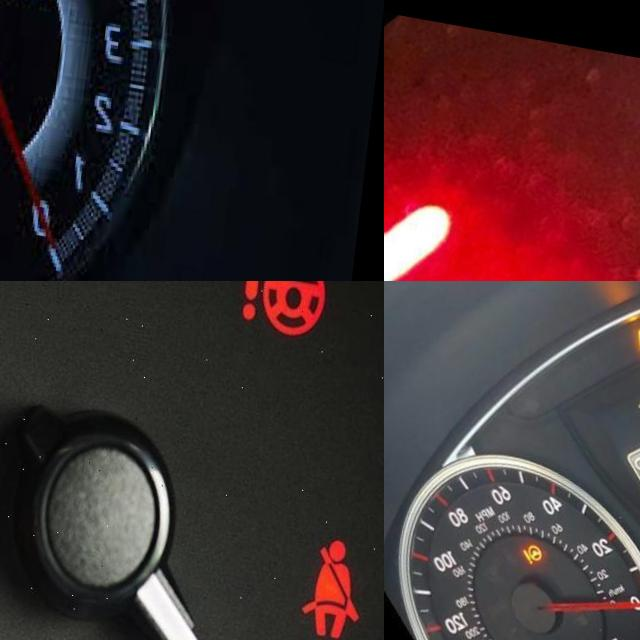Electronic Power Steering: (384, 174, 600, 281), (532, 532, 561, 562)
Electronic Power Steering Warning: (241, 281, 334, 323)
Seat Belt: (312, 512, 378, 621)
